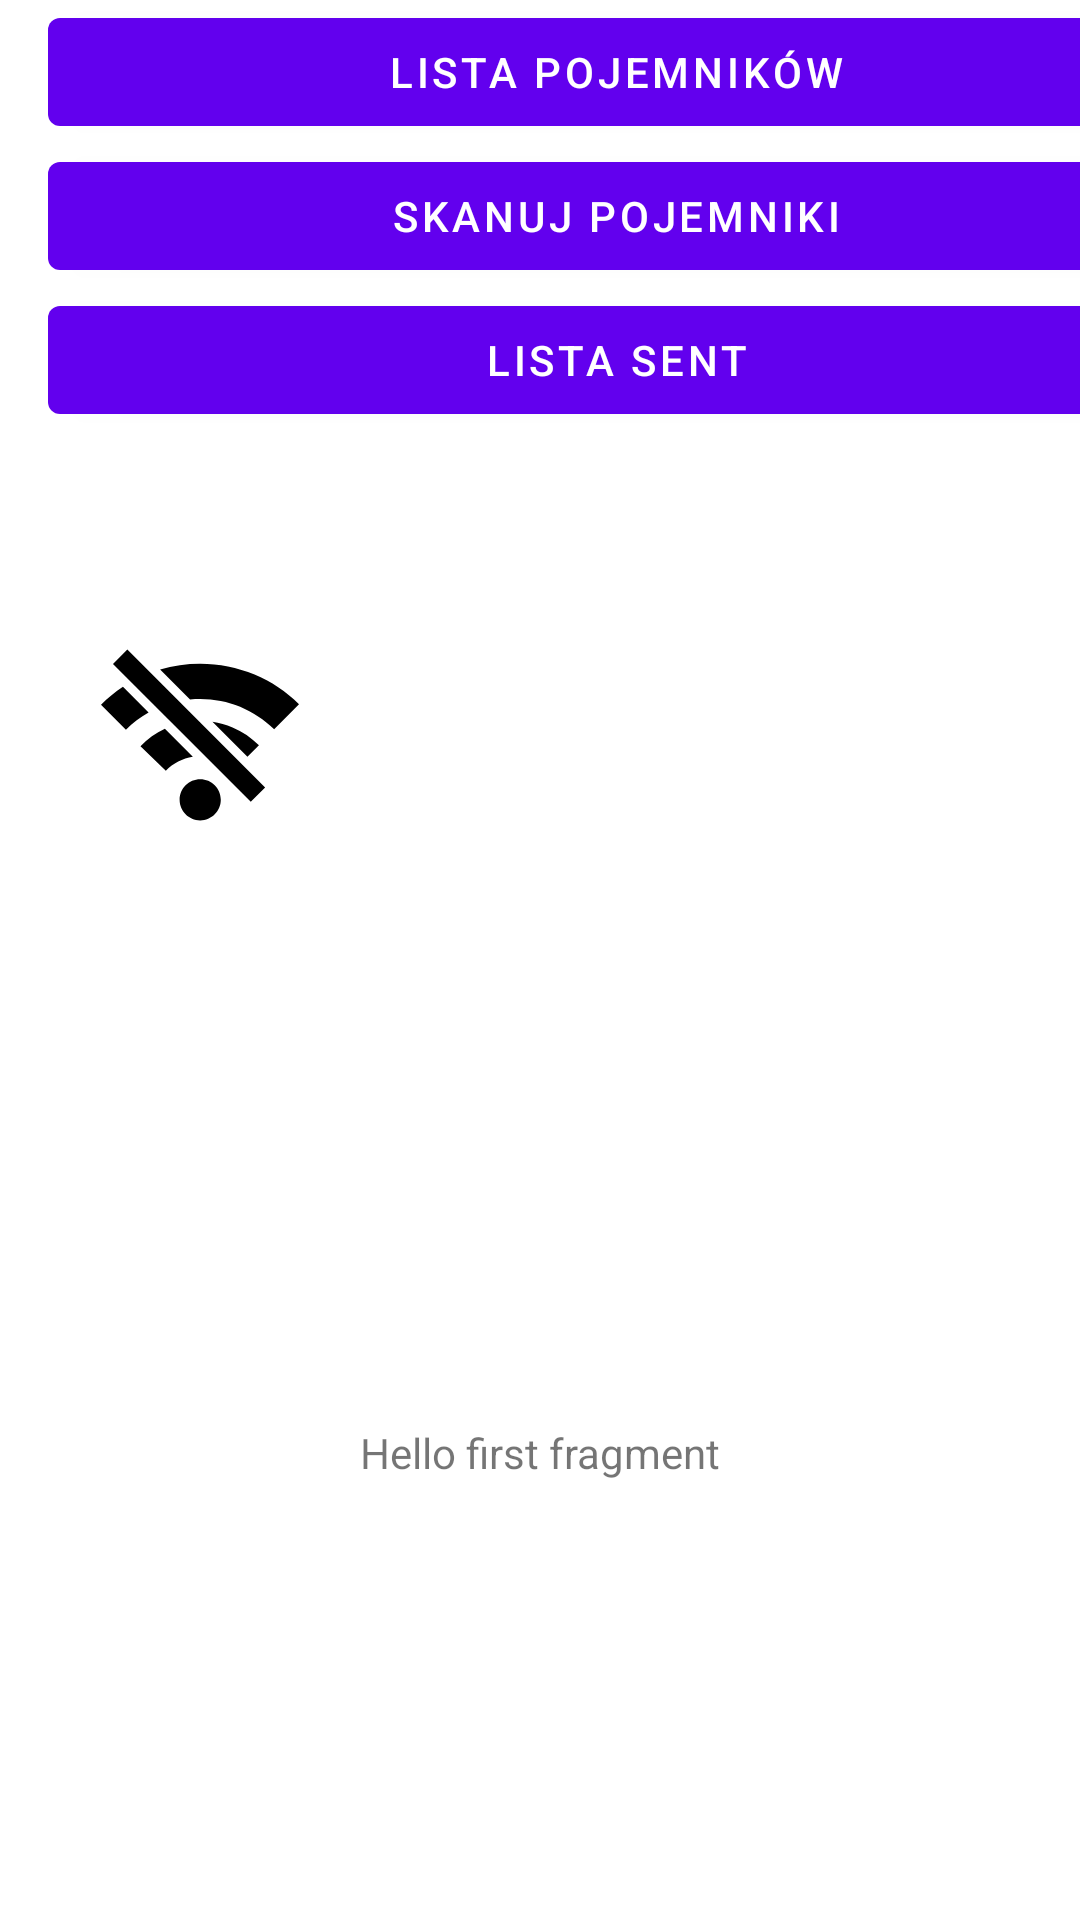

Point at icon controls on the screen. Image size 1080*1920, points as (x,y).
wifi off: (200,735)
